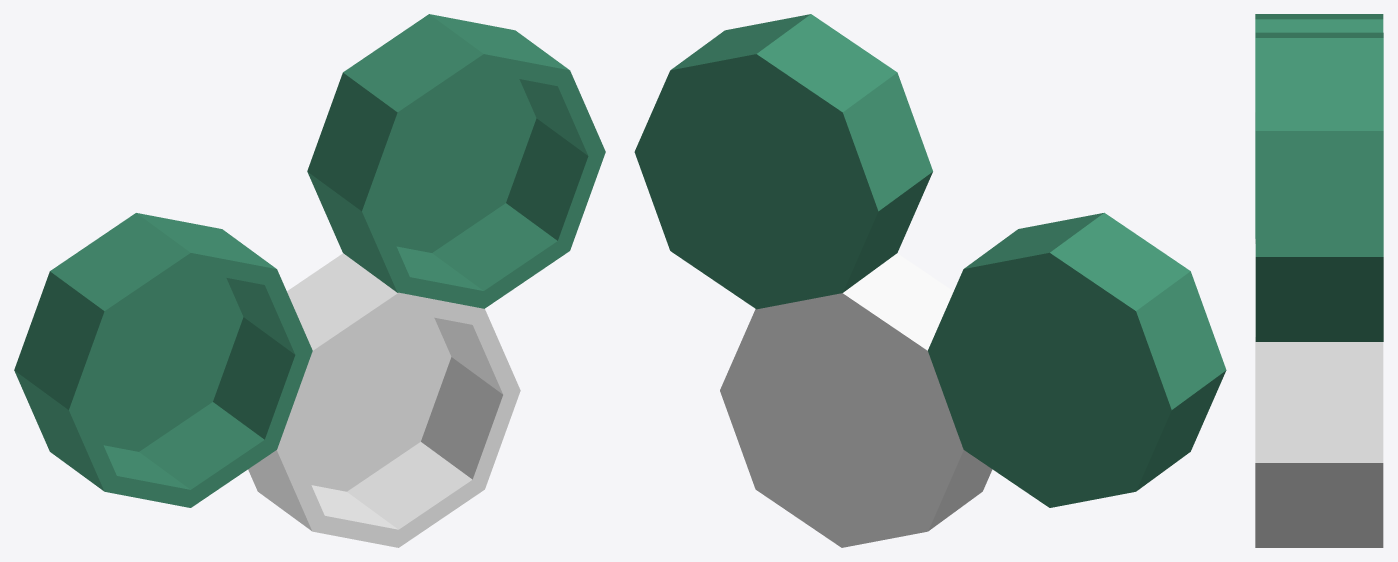
File: Shelf_18.fbx
The picture shows the model from 3 angles, left to right: view 1: azimuth 30°, elevation 25°; view 2: azimuth 150°, elevation 25°; view 3: azimuth 270°, elevation 25°; orthographic projection. The views are drawn at different scales.
Visible parts, largest first — view 1: Shelf_18; view 2: Shelf_18; view 3: Shelf_18.
Part boxes in pixels (x1=…): Shelf_18: x1=14, y1=14, x2=605, y2=547; Shelf_18: x1=634, y1=14, x2=1226, y2=547; Shelf_18: x1=1255, y1=14, x2=1383, y2=547.
Bounding box in the file's own units: 0.9012 × 0.7586 × 0.1592.
